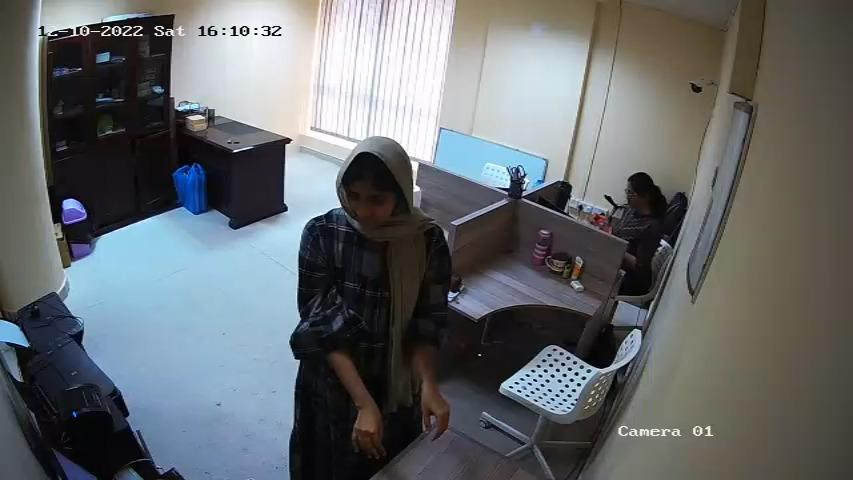no_gloves: (349, 407, 389, 464), (416, 389, 451, 441)
